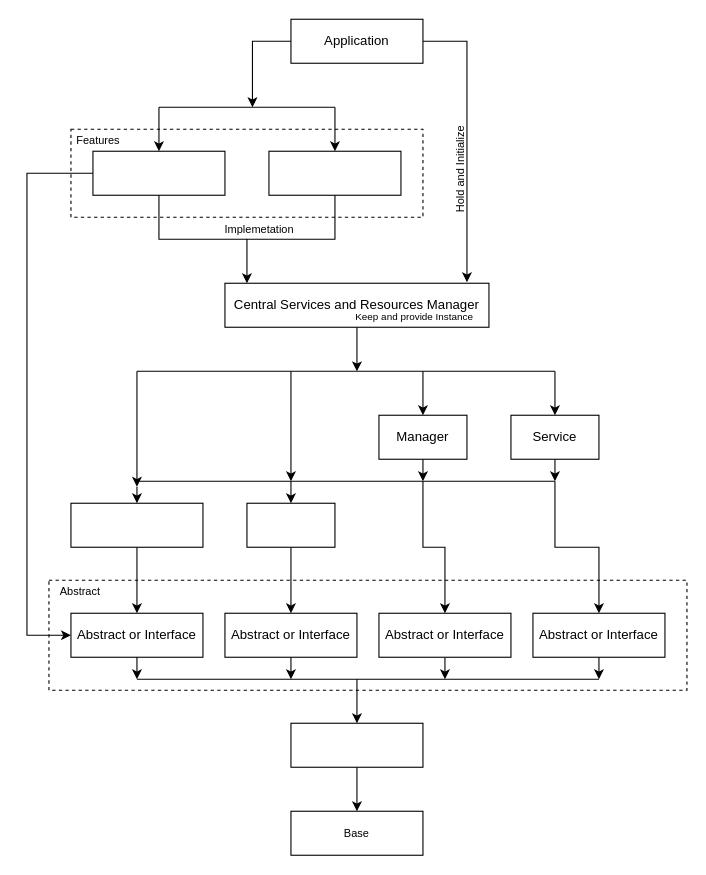
Image size: 706x875. Some labels were removed from this diagram. The shapes that lost their labels are listed below. From the top down, each one's centre as x and y in pixels, then its label:
At [158,172]: "Features1 Domain Objects".
At [334,172]: "Features x Domain Objects".
At [136,524]: "Local Persistence".
At [290,524]: "Network".
At [356,744]: "Core".
